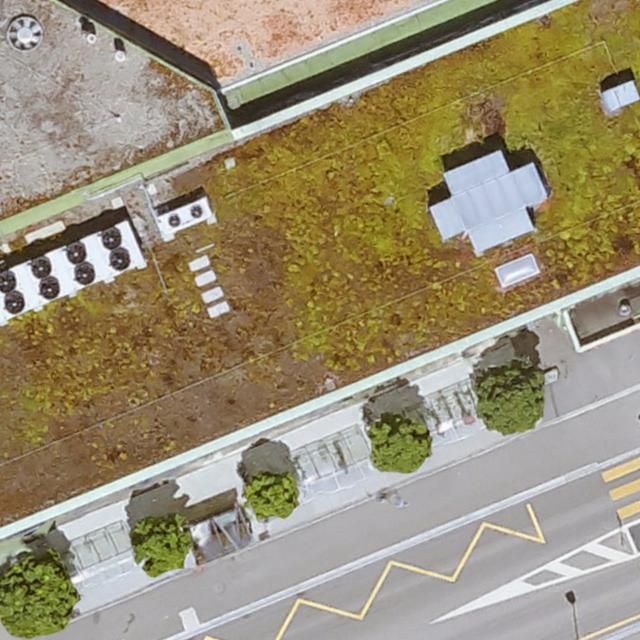tree: (0, 557, 76, 635), (481, 365, 545, 435), (370, 417, 431, 474), (138, 522, 192, 573), (249, 473, 297, 517)
